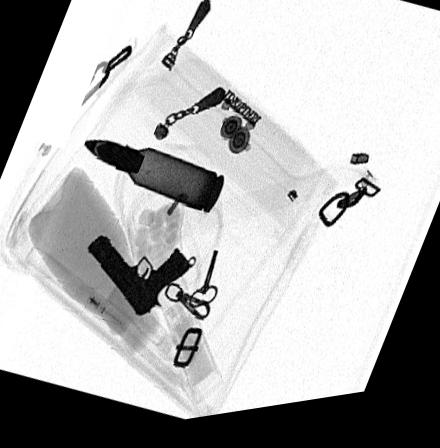Bullet: (82, 141, 225, 222)
Gun: (86, 238, 193, 323)
